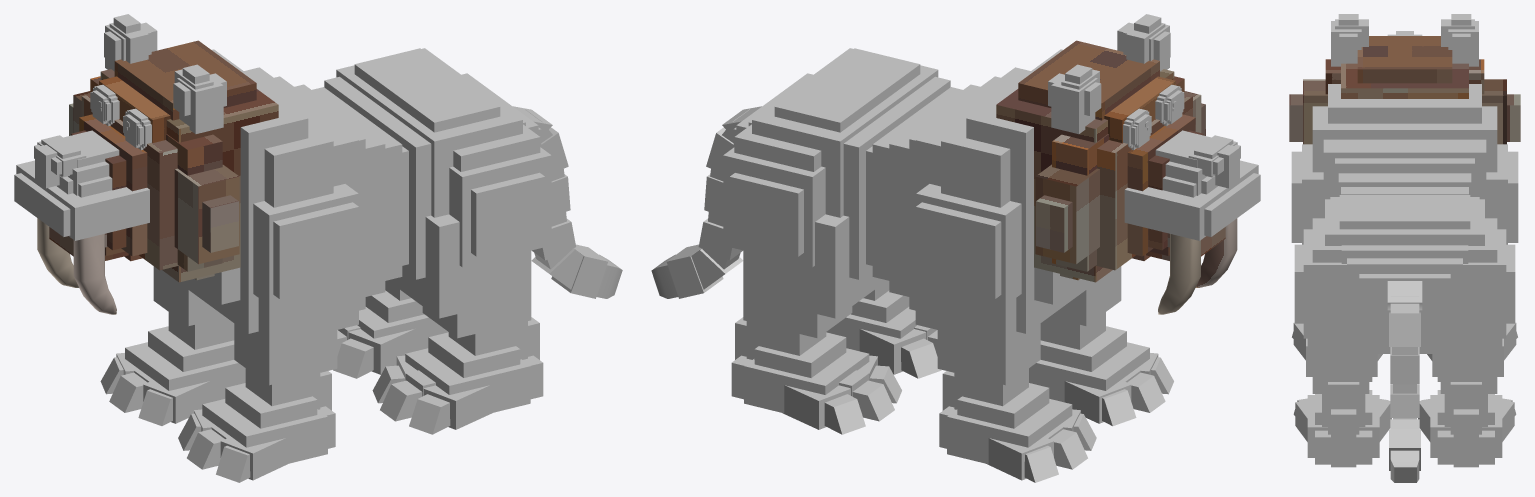
Rendered from saber_tooth_tiger.obj.
The picture shows the model from 3 angles, left to right: view 1: azimuth 30°, elevation 25°; view 2: azimuth 150°, elevation 25°; view 3: azimuth 270°, elevation 25°; orthographic projection. The views are drawn at different scales.
Visible parts, largest first — view 1: Cube.013, Cube.006, Cube.004, Cube.001, Cube.003, Cube.060, Cube.008, Cube.012, Cube.034, Cube.002, Cube.011, Cube.007 (+4 smaller); view 2: Cube.013, Cube.006, Cube.004, Cube.001, Cube.003, Cube.060, Cube.008, Cube.012, Cube.034, Cube.002, Cube.011, Cube.007 (+4 smaller); view 3: Cube.060, Cube.006, Cube.004, Cube.013, Cube.008, Cube.007, Cube.001, Cube.034, Cube.009, Cube.011, Cube.010, Cube.003.
Part boxes in pixels (x1,y1,x2,y2): Cube.013: (37,40,278,314); Cube.006: (162,49,402,333); Cube.004: (399,124,551,338); Cube.001: (153,184,358,385); Cube.003: (100,326,335,482); Cube.060: (324,48,541,279); Cube.008: (333,290,543,434); Cube.012: (14,130,149,240); Cube.034: (104,14,226,133); Cube.002: (168,312,331,410); Cube.011: (531,244,622,298); Cube.007: (385,277,539,359); Cube.013: (996,40,1237,314); Cube.006: (872,49,1112,333); Cube.004: (723,124,875,338); Cube.001: (915,184,1121,385); Cube.003: (939,326,1173,482); Cube.060: (733,48,950,279); Cube.008: (731,290,941,434); Cube.012: (1124,130,1260,240); Cube.034: (1048,14,1170,134); Cube.002: (942,312,1105,410); Cube.011: (651,244,743,298); Cube.007: (735,277,889,359); Cube.060: (1325,195,1484,353); Cube.006: (1312,84,1497,218); Cube.004: (1294,218,1515,393); Cube.013: (1289,36,1520,144); Cube.008: (1293,390,1516,464); Cube.007: (1322,382,1487,467); Cube.001: (1291,144,1518,244); Cube.034: (1331,14,1478,66); Cube.009: (1387,281,1422,354); Cube.011: (1389,418,1420,482); Cube.010: (1390,347,1419,417); Cube.003: (1292,322,1517,381).
Size of the model in its own units: 9.17 by 5.94 by 3.9.
